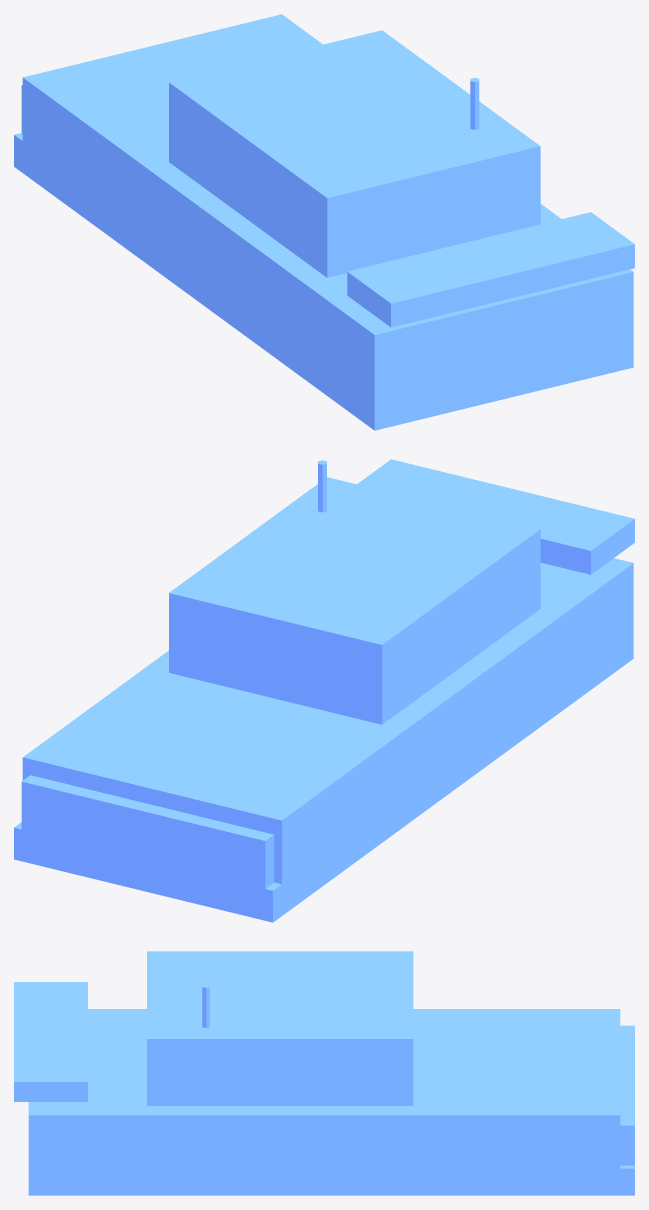
The model's file is coupe.glb.
3 views of the same model, one above another, from view 1: azimuth 30°, elevation 25°; view 2: azimuth 150°, elevation 25°; view 3: azimuth 270°, elevation 25° (orthographic). The views are drawn at different scales.
Parts seen in each view (by area): view 1: coupe; view 2: coupe; view 3: coupe.
Boxes of the visible parts, bbox=[...] form: coupe: bbox=[14, 14, 634, 430]; coupe: bbox=[14, 459, 634, 922]; coupe: bbox=[14, 951, 634, 1195].
Bounding box in the file's own units: 1.7 × 1.4 × 4.2.
